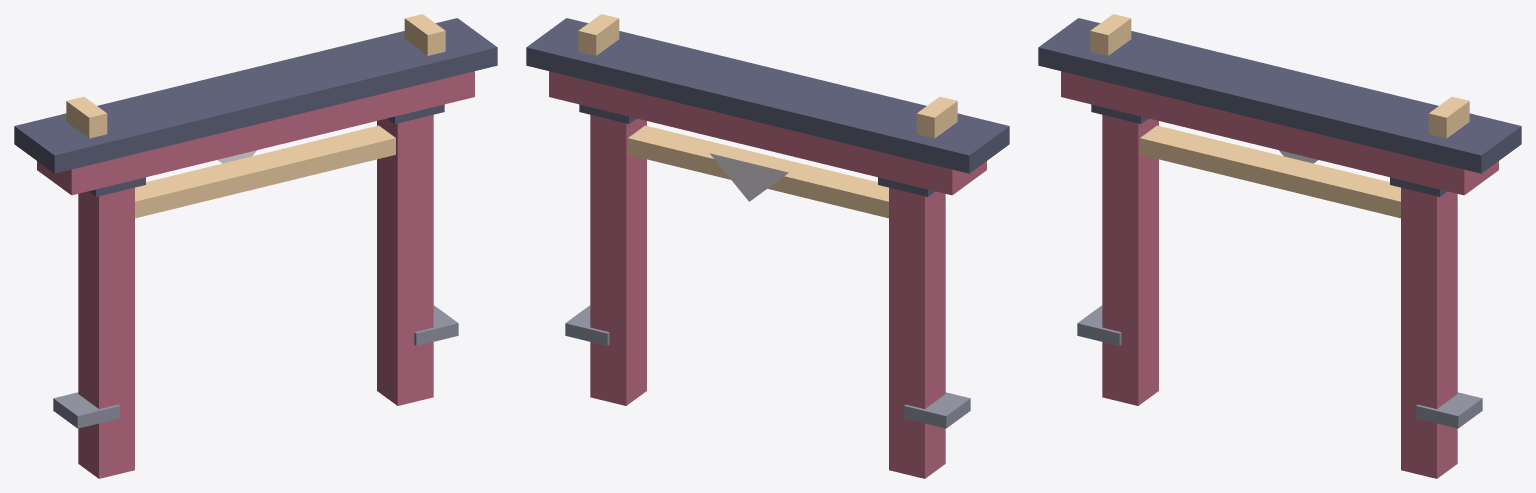
The model's file is dojo_fox_emblem_gate_lod0.gltf.
The picture shows the model from 3 angles, left to right: view 1: azimuth 30°, elevation 25°; view 2: azimuth 150°, elevation 25°; view 3: azimuth 330°, elevation 25°; orthographic projection.
Parts seen in each view (by area): view 1: dojo_fox_emblem_gate; view 2: dojo_fox_emblem_gate; view 3: dojo_fox_emblem_gate.
Part boxes in pixels (bbox=[...]): dojo_fox_emblem_gate: bbox=[14, 14, 497, 478]; dojo_fox_emblem_gate: bbox=[526, 14, 1009, 478]; dojo_fox_emblem_gate: bbox=[1038, 14, 1521, 478].
Bounding box in the file's own units: 8.9 × 7 × 1.4.
